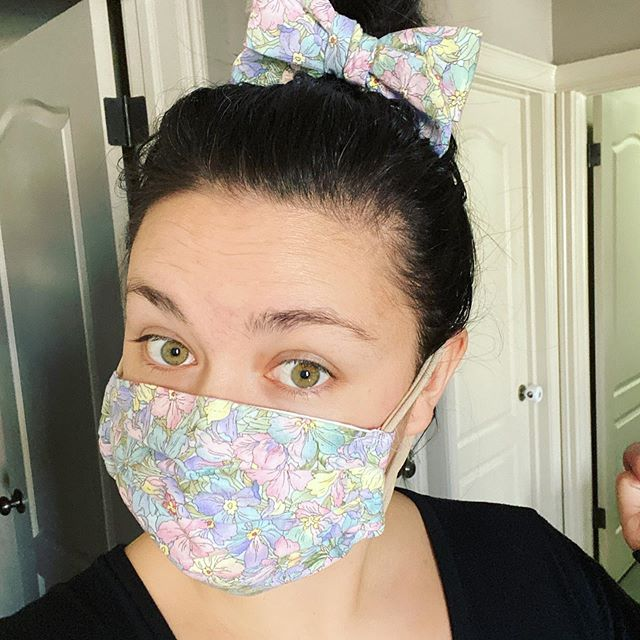homemade: (102, 372, 397, 595)
